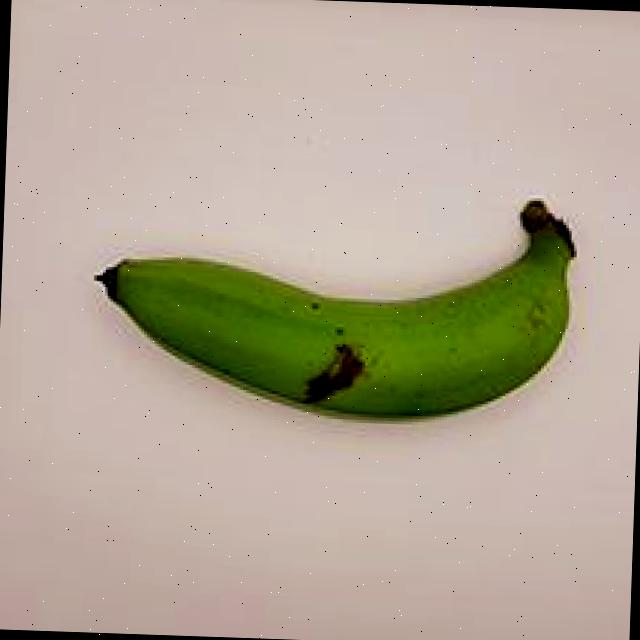Raw: (72, 154, 610, 464)
